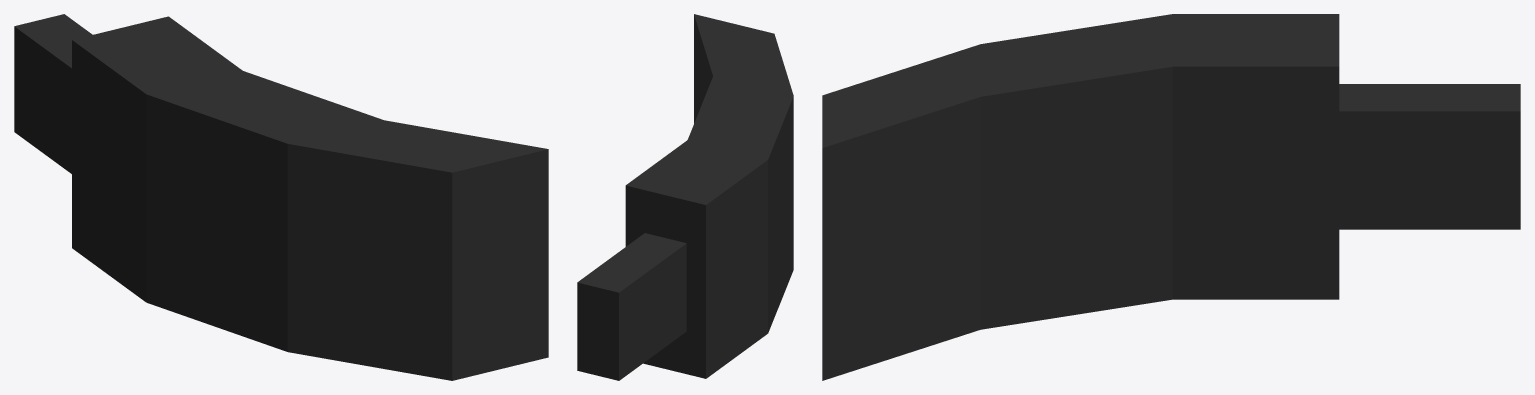
File: Shotgun5_04_4.fbx
3 views of the same model, side by side, from view 1: azimuth 30°, elevation 25°; view 2: azimuth 150°, elevation 25°; view 3: azimuth 270°, elevation 25° (orthographic). The views are drawn at different scales.
Parts seen in each view (by area): view 1: Shotgun5_04_4; view 2: Shotgun5_04_4; view 3: Shotgun5_04_4.
Boxes of the visible parts, box(x1,y1,x2,y2) form: Shotgun5_04_4: box(14, 14, 548, 380); Shotgun5_04_4: box(577, 14, 793, 380); Shotgun5_04_4: box(822, 14, 1520, 380).
Bounding box in the file's own units: 0.0115 × 0.00929 × 0.0252.
